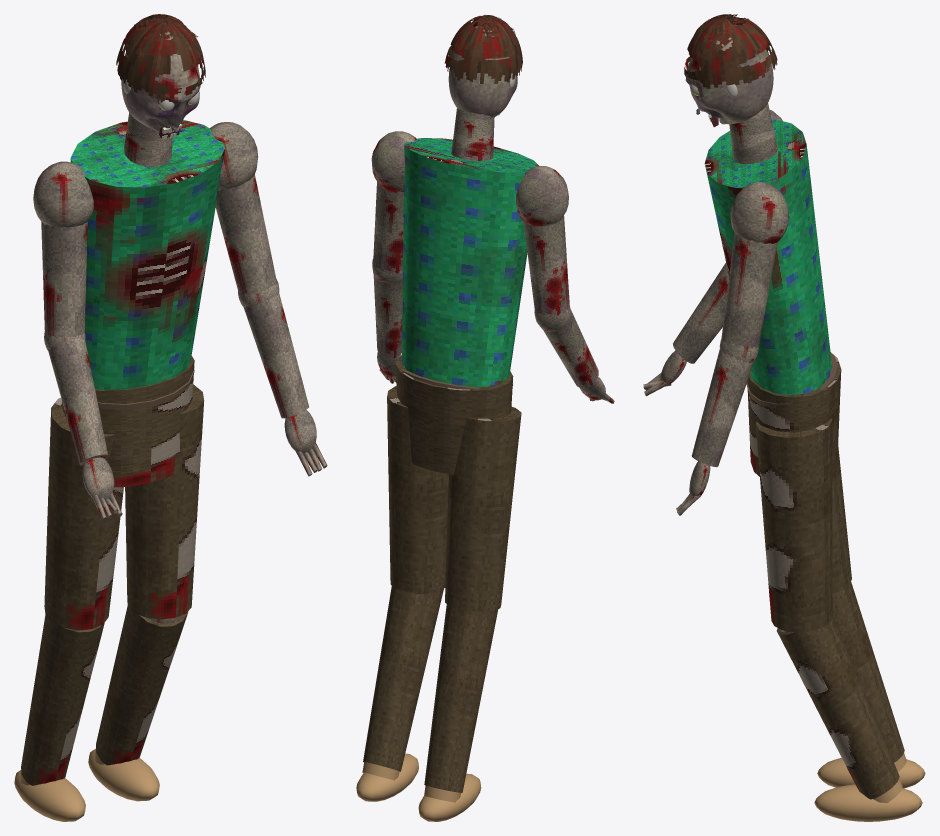
The model's file is Zombie_067.glb.
The picture shows the model from 3 angles, left to right: view 1: azimuth 30°, elevation 25°; view 2: azimuth 150°, elevation 25°; view 3: azimuth 270°, elevation 25°; orthographic projection. The views are drawn at different scales.
Parts seen in each view (by area): view 1: Zombie_067, object 3, object 41, object 10, object 16, object 4, object 11; view 2: Zombie_067, object 41, object 16, object 10, object 3, object 40, object 2; view 3: Zombie_067, object 41, object 10, object 16, object 3, object 40, object 11, object 4, object 9.
Boxes of the visible parts, x1,y1,x2,y2 form: Zombie_067: (14, 112, 276, 821); object 3: (48, 338, 108, 465); object 41: (116, 14, 205, 99); object 10: (243, 292, 308, 418); object 16: (121, 31, 200, 132); object 4: (82, 457, 114, 499); object 11: (284, 410, 316, 453); Zombie_067: (356, 108, 569, 821); object 41: (444, 15, 522, 80); object 16: (448, 24, 517, 117); object 10: (373, 274, 402, 358); object 3: (543, 309, 598, 388); object 40: (446, 18, 520, 84); object 2: (534, 305, 570, 332); Zombie_067: (704, 103, 925, 821); object 41: (684, 14, 777, 85); object 10: (691, 349, 753, 467); object 16: (685, 24, 773, 124); object 3: (673, 263, 729, 363); object 40: (686, 20, 775, 88); object 11: (689, 461, 710, 499); object 4: (660, 350, 686, 384); object 9: (719, 339, 758, 362).
Bounding box in the file's own units: 0.6181 × 2.01 × 0.6517.
Materials: 15 (6 with a texture image).
